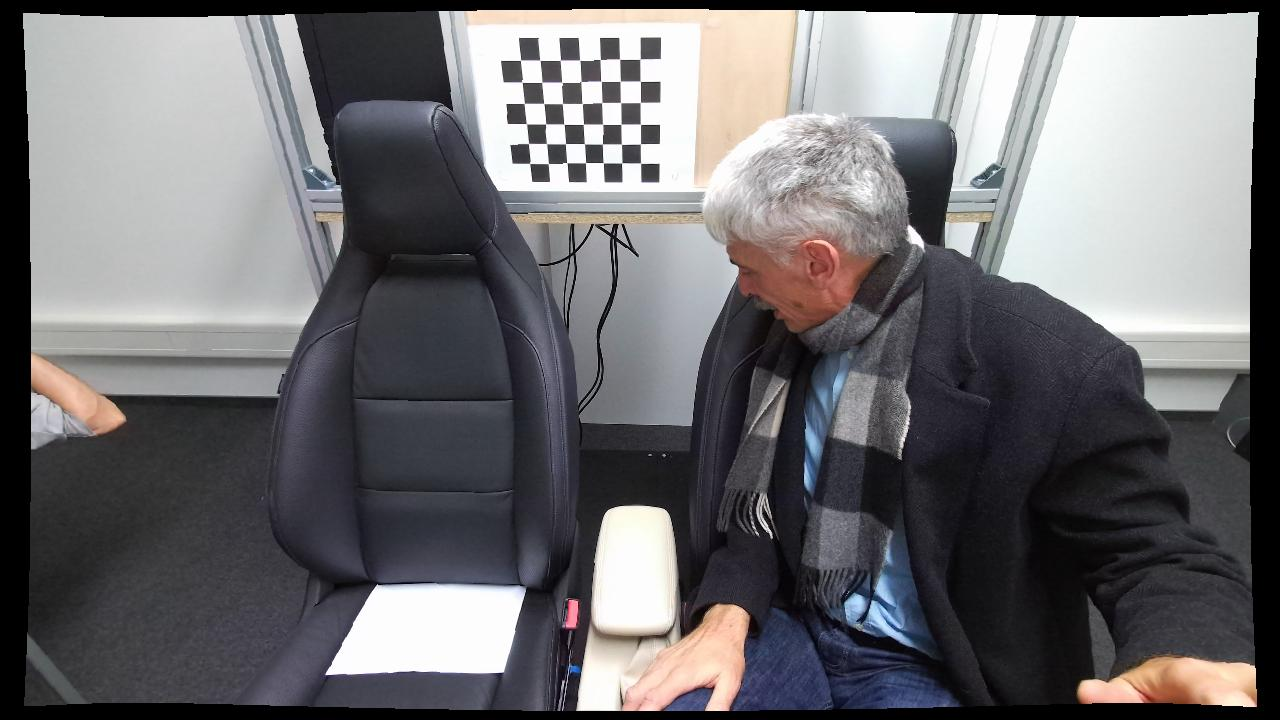Distracted: (695, 101, 1059, 704)
